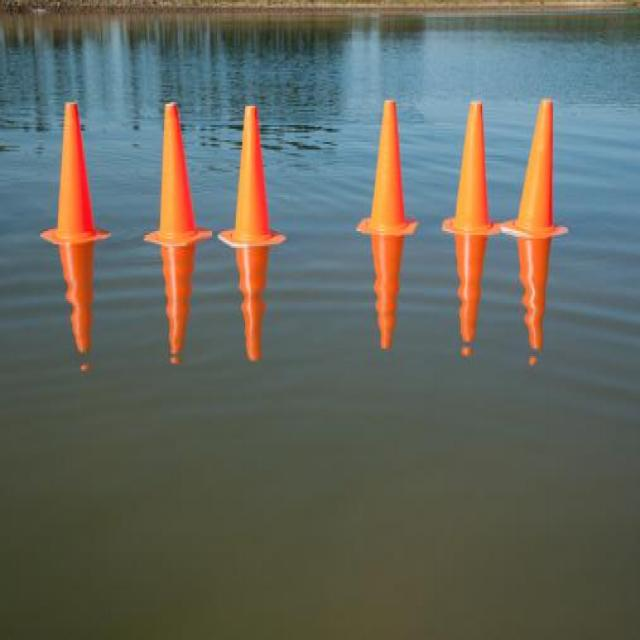Cone: (39, 99, 111, 242), (144, 97, 209, 246), (217, 103, 285, 245), (505, 97, 568, 240), (444, 100, 501, 237), (357, 98, 410, 235)
